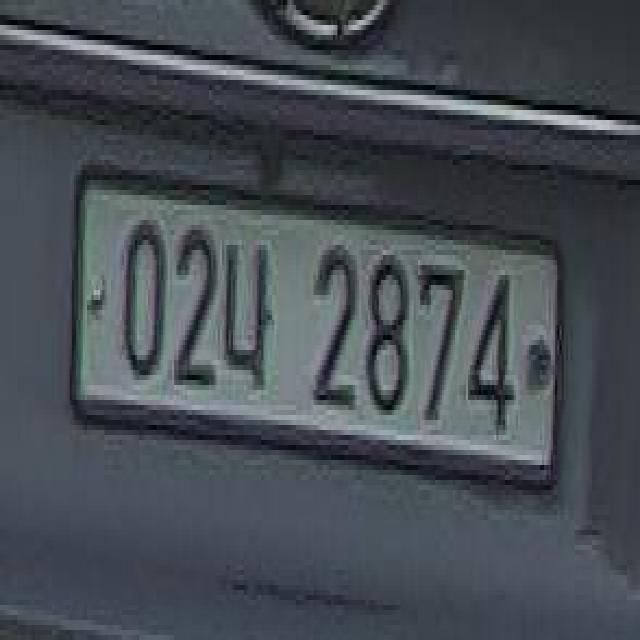illegal_plate: (74, 159, 563, 514)
